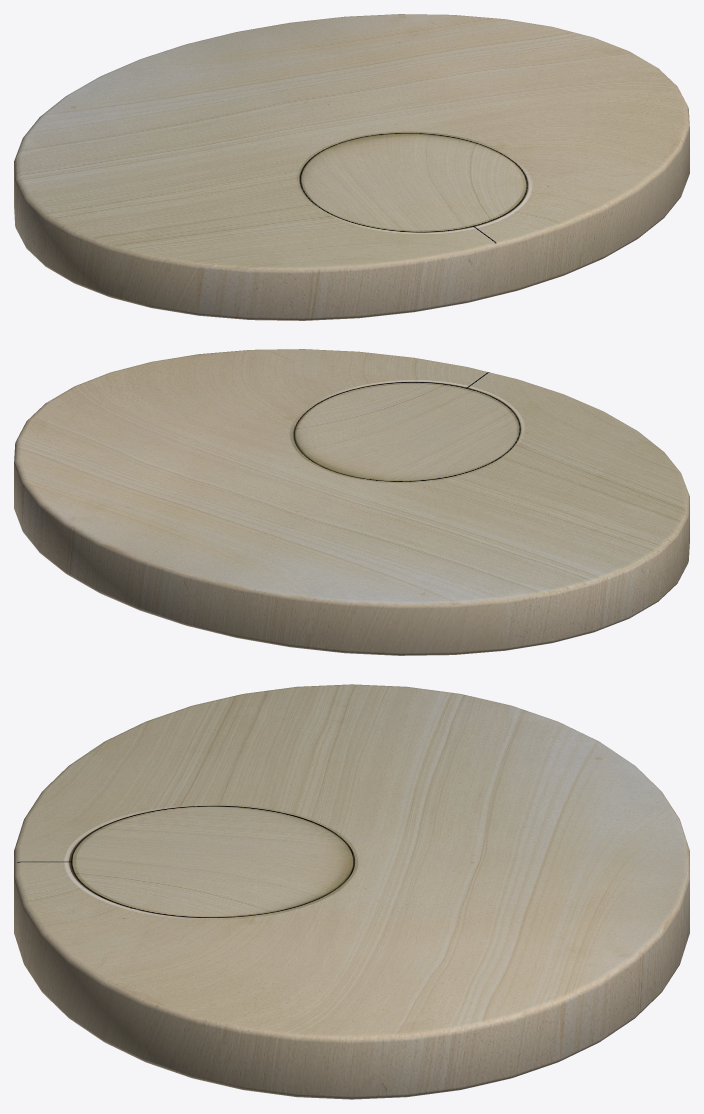
Rendered from aspen.glb.
The picture shows the model from 3 angles, top to bottom: view 1: azimuth 30°, elevation 25°; view 2: azimuth 150°, elevation 25°; view 3: azimuth 270°, elevation 25°; orthographic projection. The views are drawn at different scales.
Visible parts, largest first — view 1: Cylinder-Mat, Cylinder-Mat.2; view 2: Cylinder-Mat, Cylinder-Mat.2; view 3: Cylinder-Mat, Cylinder-Mat.2.
Part boxes in pixels (<box>): Cylinder-Mat: <box>17,14,686,268</box>; Cylinder-Mat.2: <box>14,57,689,320</box>; Cylinder-Mat: <box>17,349,686,603</box>; Cylinder-Mat.2: <box>14,392,689,655</box>; Cylinder-Mat: <box>17,684,686,1036</box>; Cylinder-Mat.2: <box>14,765,689,1099</box>.
Size of the model in its own units: 0.0566 by 0.00474 by 0.0454.
Materials: 2 (2 with a texture image).
